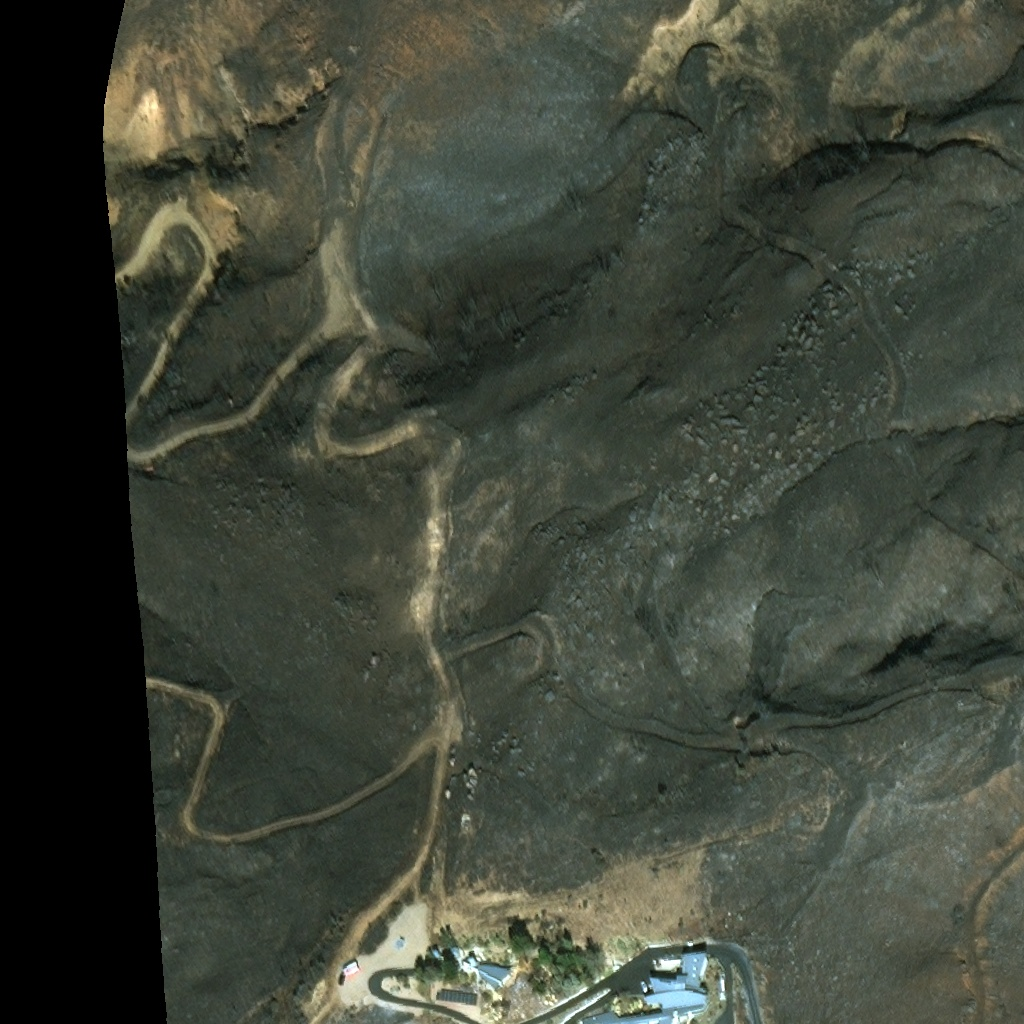0 no-damage: (576, 956, 712, 1023), (475, 964, 513, 993), (448, 947, 457, 957), (468, 960, 476, 967), (430, 952, 437, 958)
